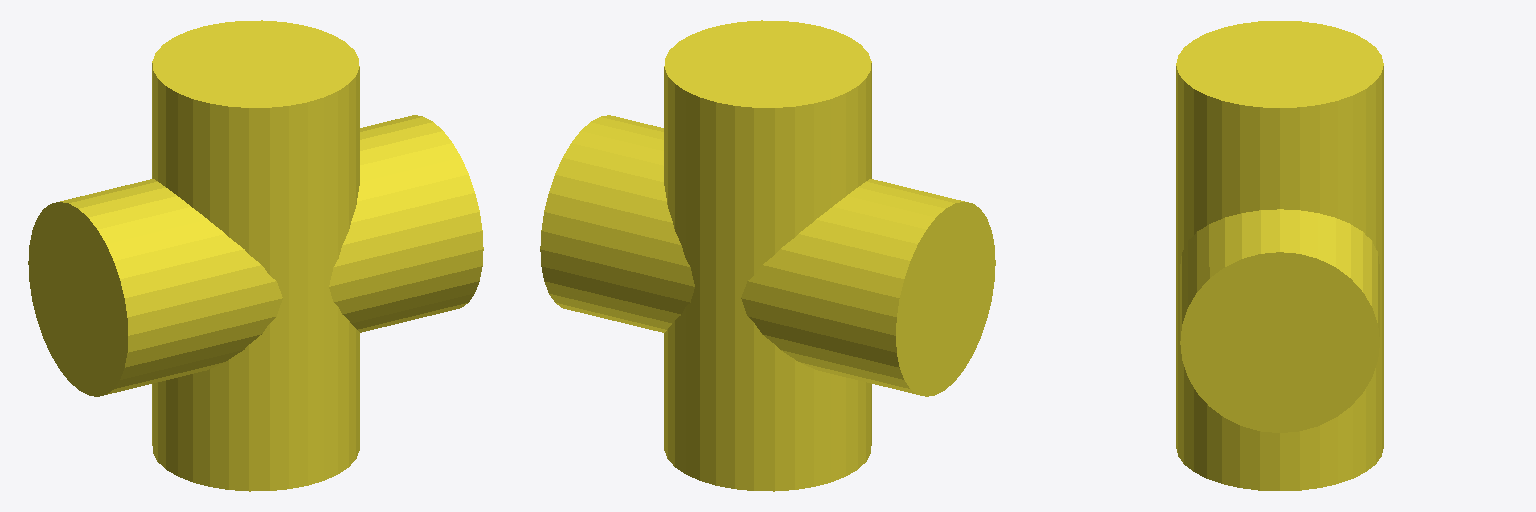
URDF robot description (AtlasV2.urdf):
<?xml version="1.0"?>
<robot name="AtlasV2.urdf" xmlns:xacro="http://ros.org/wiki/xacro">
  <link name="base_link">
  </link>
  <joint name="LLegUhz" type="revolute">
    <parent link="base_link"/>
    <child link="LLegUhz"/>
    <axis xyz="0 0 1"/>
    <origin xyz="0 0.089 0" rpy="0 0 0"/>
  </joint>
  <link name="LLegUhz">
  </link>
  <joint name="LLegMhx" type="revolute">
    <parent link="LLegUhz"/>
    <child link="solid_4"/>
    <axis xyz="1 0 0"/>
    <origin xyz="0 0 0" rpy="0 0 0"/>
  </joint>
  <link name="solid_4">
  </link>
  <link name="LUglut">
    <visual>
      <origin xyz="0 0 0" rpy="3.141193 1.570793 -3.141193"/>
      <geometry>
        <cylinder radius="0.019096" length="0.078396"/>
      </geometry>
    </visual>
    <collision>
      <origin xyz="0 0 0" rpy="3.141193 1.570793 -3.141193"/>
      <geometry>
        <cylinder radius="0.019096" length="0.078396"/>
      </geometry>
    </collision>
    <visual>
      <geometry>
        <cylinder radius="0.019841" length="0.080842"/>
      </geometry>
    </visual>
    <collision>
      <geometry>
        <cylinder radius="0.019841" length="0.080842"/>
      </geometry>
    </collision>
  </link>
  <joint name="LLegUhz_LUglut_joint" type="fixed">
    <parent link="LLegUhz"/>
    <child link="LUglut"/>
    <origin xyz="0 0 0" rpy="0 0 0"/>
  </joint>
</robot>

--- What the picture shows (computed from the rendered views, not written in the file) ---
Views: 3 orthographic renders of the robot side by side, from view 1: azimuth 30°, elevation 25°; view 2: azimuth 150°, elevation 25°; view 3: azimuth 270°, elevation 25°.
Robot: AtlasV2.urdf — 4 links, 3 joints (2 revolute, 1 fixed); root link base_link; default pose: every joint at zero.
Links seen in each view (by area): view 1: LUglut; view 2: LUglut; view 3: LUglut.
Boxes of the visible links, box(x1,y1,x2,y2) form: LUglut: box(28, 20, 483, 491); LUglut: box(540, 20, 995, 491); LUglut: box(1176, 21, 1383, 490).
Size in the robot's own frame: 0.0784 by 0.0397 by 0.0808 metres.
Geometry: primitives only (box / cylinder / sphere), no mesh files.
